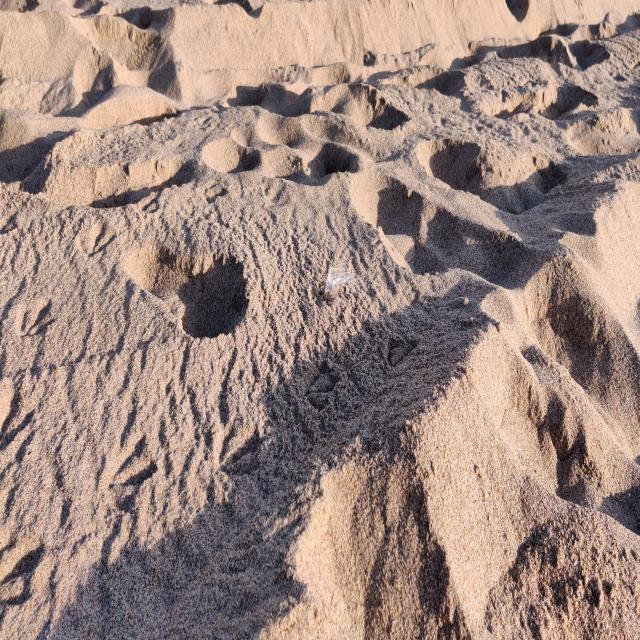litter: (320, 256, 362, 313)
